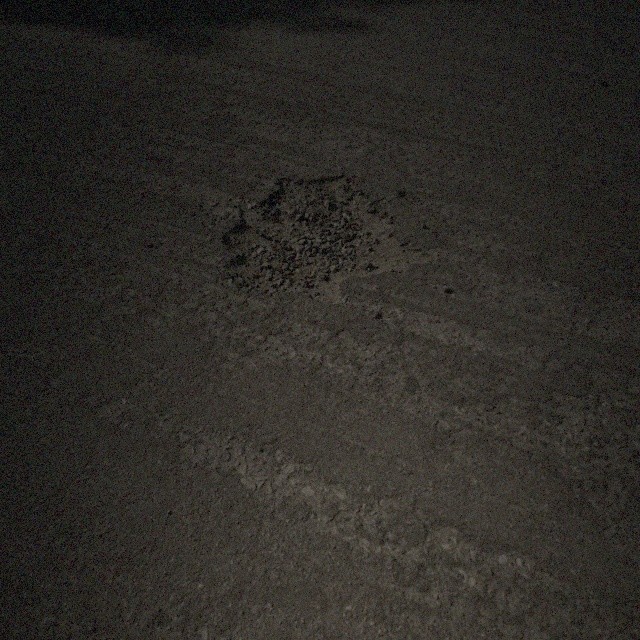pothole: (216, 169, 430, 307)
